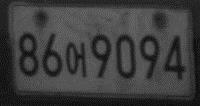0: (115, 33, 137, 80)
4: (162, 35, 186, 81)
6: (40, 32, 63, 77)
8: (17, 31, 39, 76)
9: (138, 34, 161, 81), (90, 33, 112, 81)
어: (64, 41, 88, 79)
